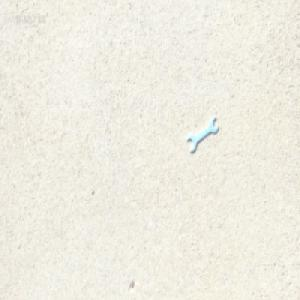Wrench: (187, 116, 218, 152)
